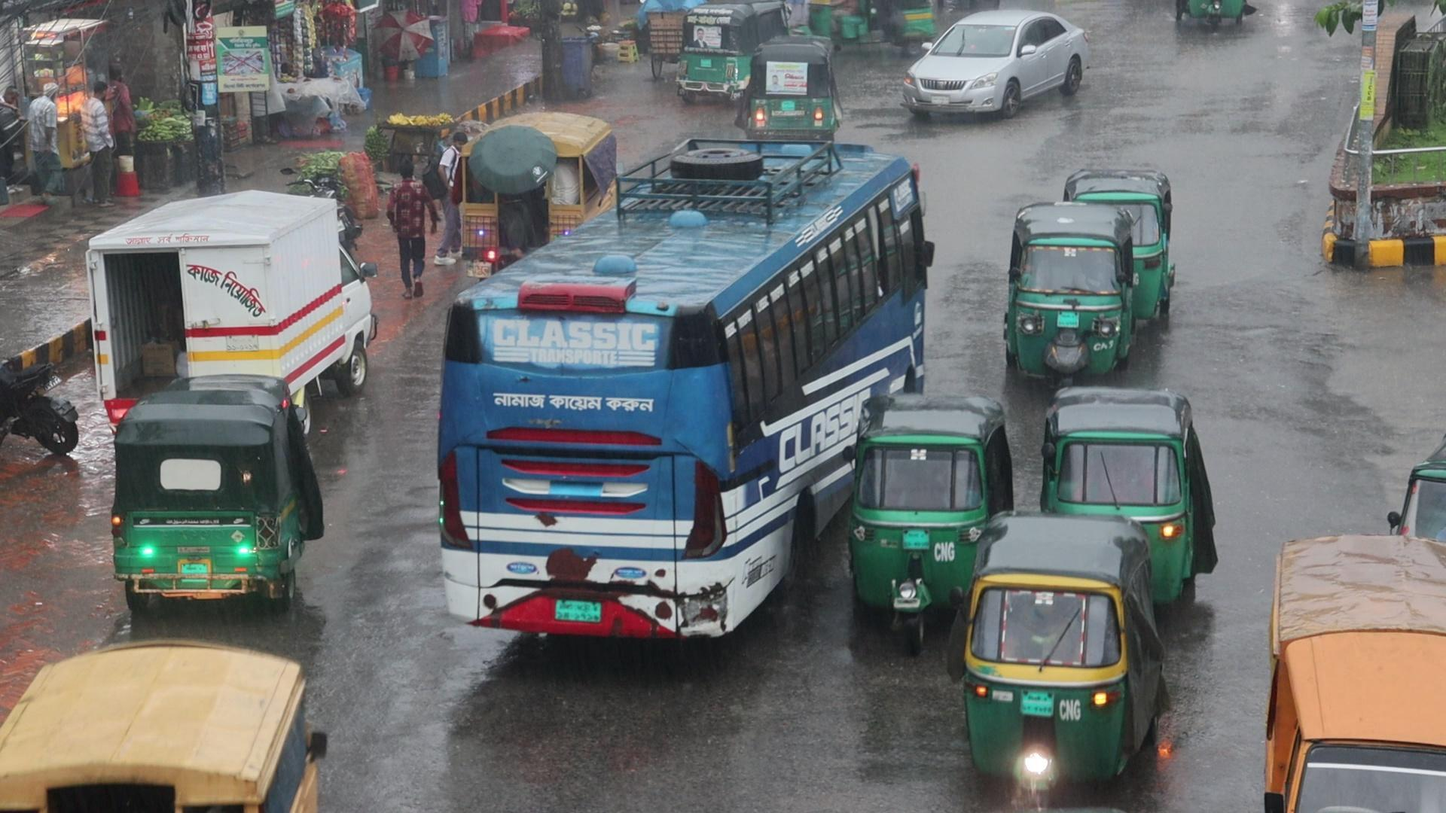Bus: (438, 132, 923, 639)
Car: (900, 7, 1089, 119)
Truck: (0, 638, 322, 812), (1271, 519, 1446, 813), (453, 110, 610, 241)
